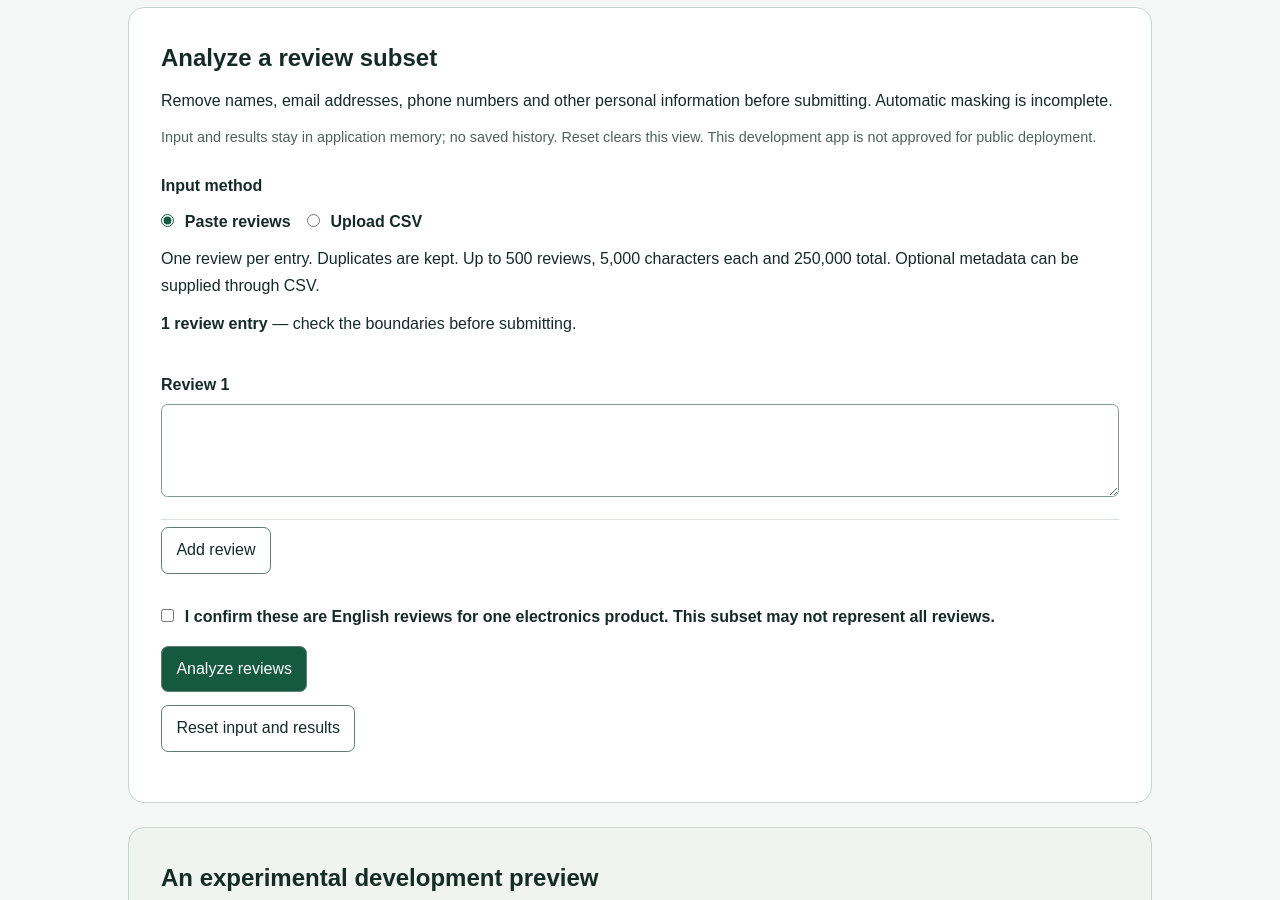
client deadline aborts a stalled request
(page scrolled)
Type "This synthetic display is bright and clear." into the text box labelled "Review 1" at (640, 450), box [161, 404, 1119, 497]
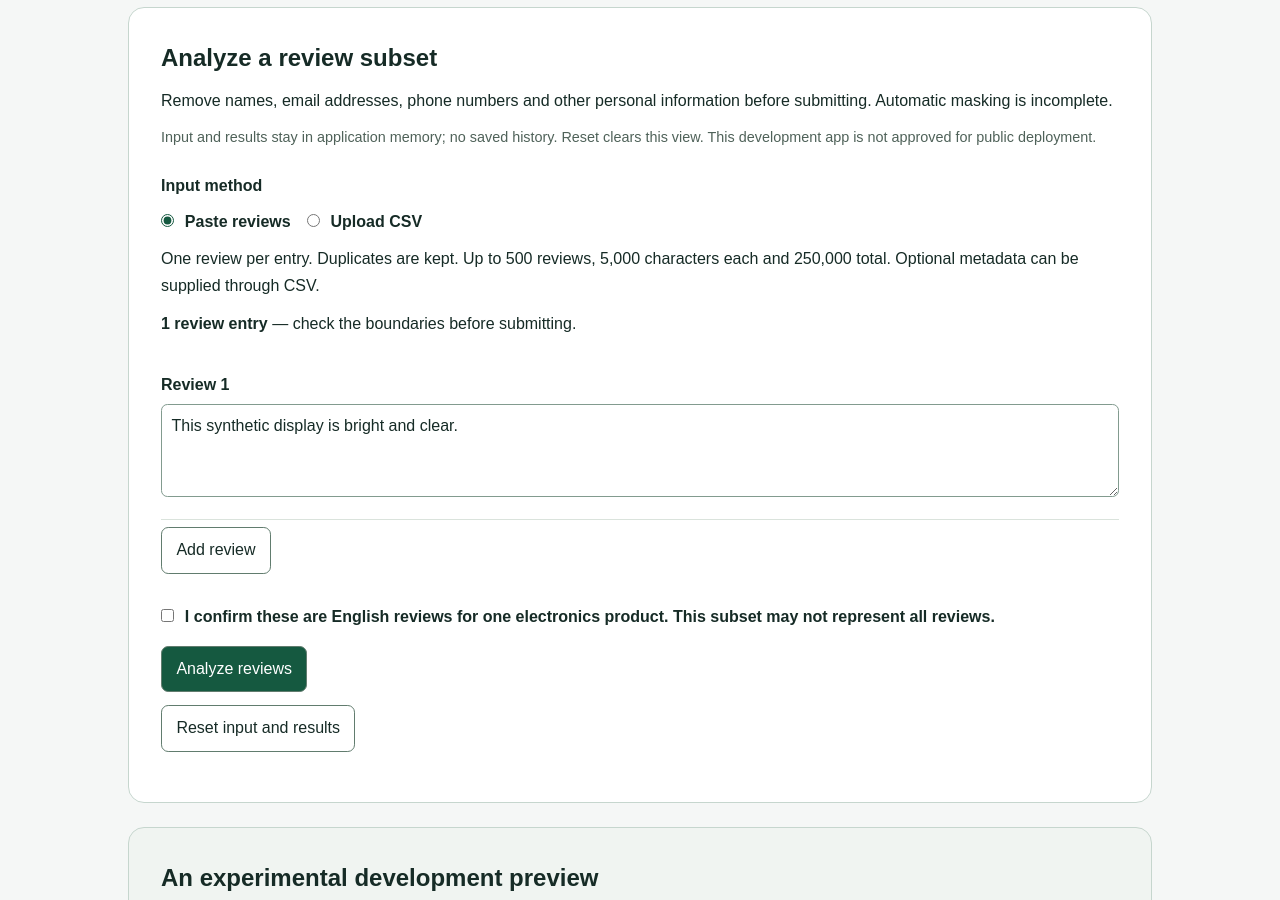
Click the checkbox at (168, 615), box [161, 609, 174, 622]
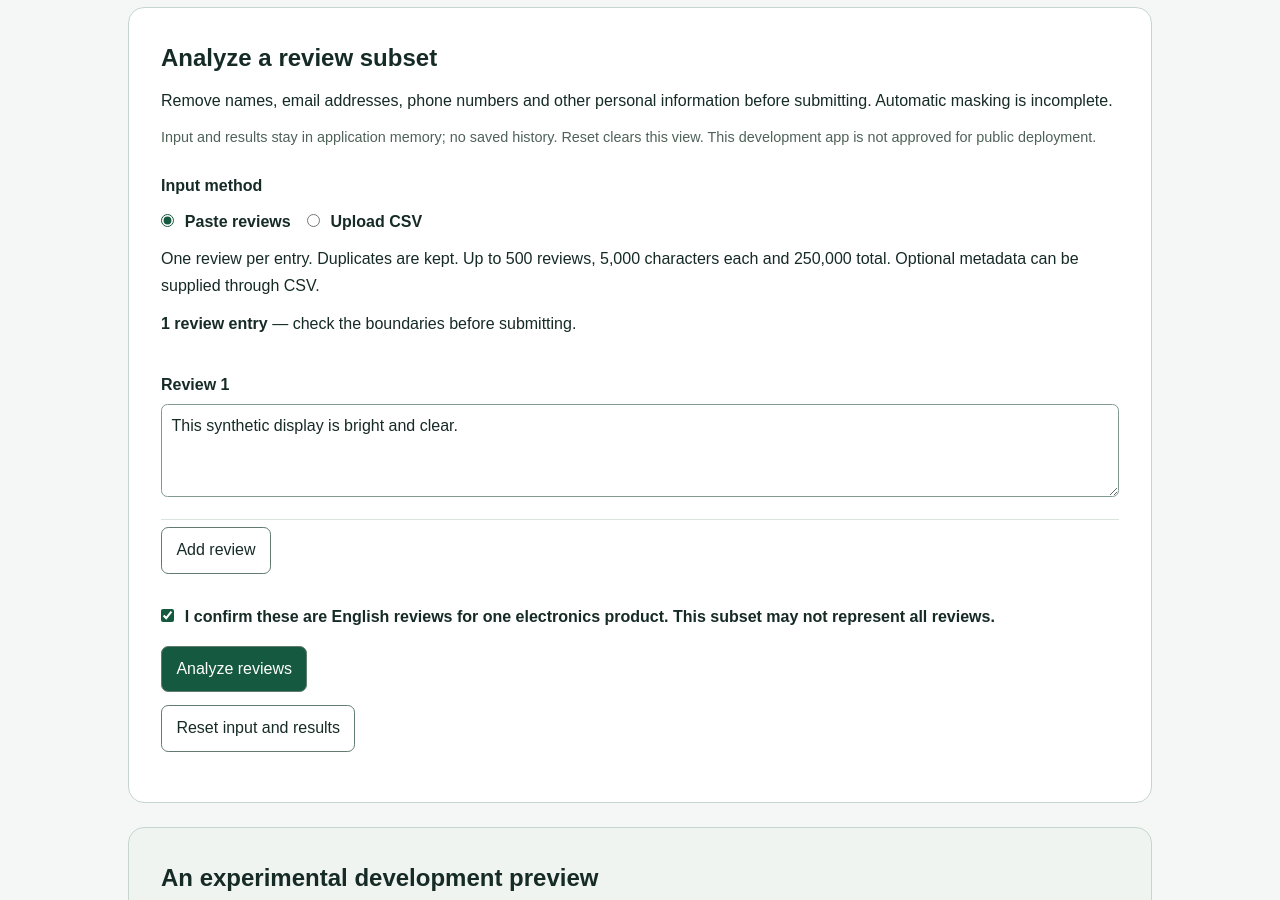
Click the button "Analyze reviews" at (234, 669), box [161, 646, 307, 692]
Wait 35000 ms
(page scrolled)
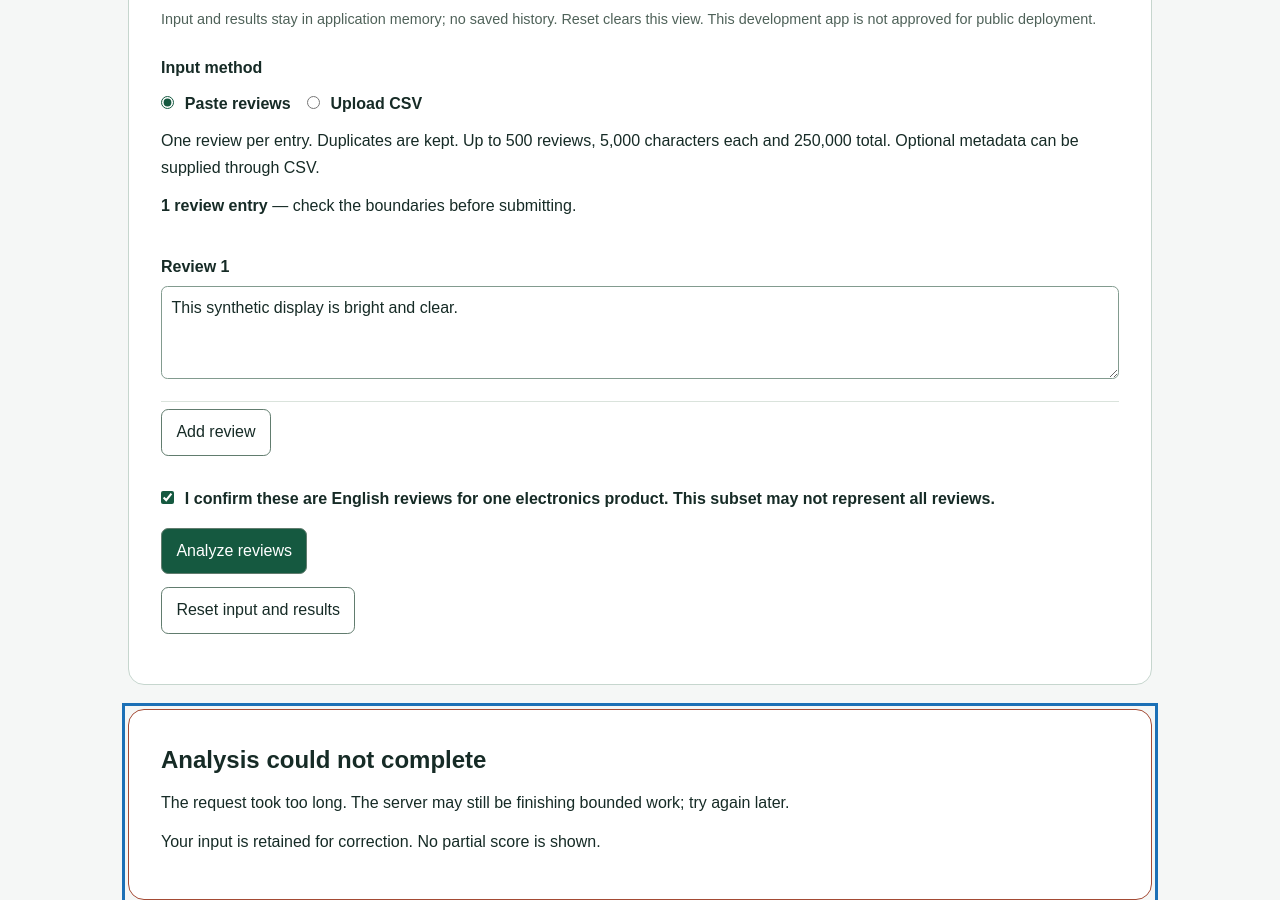
expect the message shows "took too long": met, box [161, 794, 790, 811]
